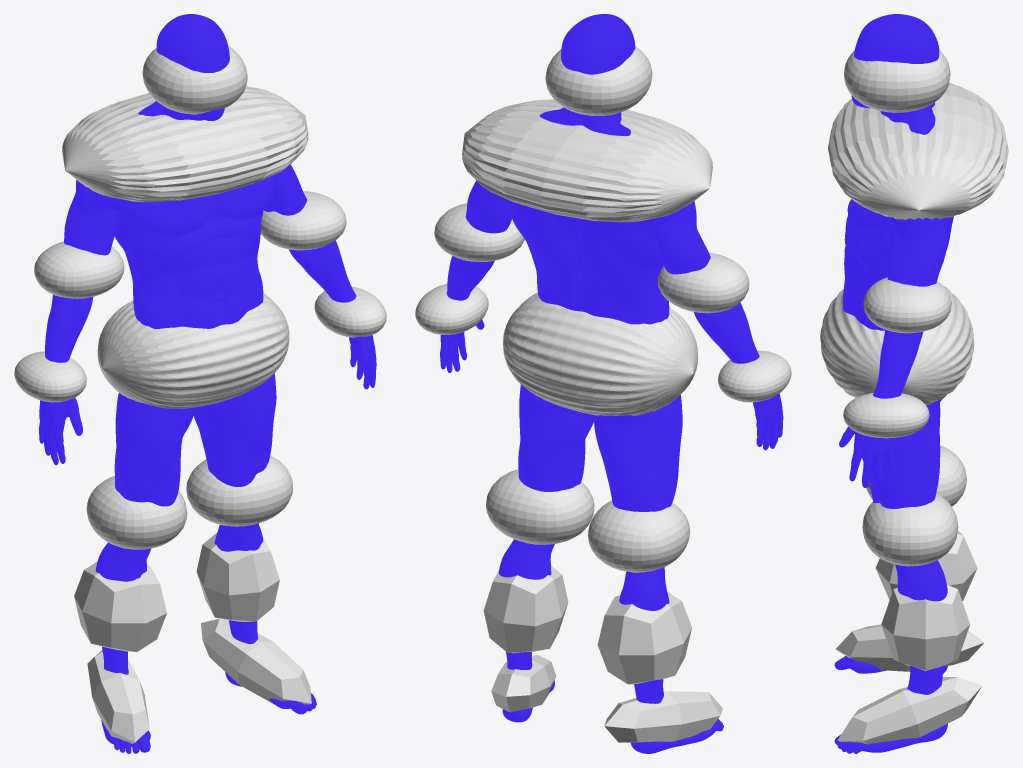
File: body-interactive.glb
3 views of the same model, side by side, from view 1: azimuth 30°, elevation 25°; view 2: azimuth 150°, elevation 25°; view 3: azimuth 270°, elevation 25° (orthographic). The views are drawn at different scales.
Visible parts, largest first — view 1: body012_2, Trigger_Shoulder, Trigger_Hip, Trigger_TibialisRight, Trigger_TibialisLeft, Trigger_AnkleLeft, Trigger_KneeLeft, Trigger_KneeRight, Trigger_Neck, Trigger_ElbowRight, Trigger_AnkleRight, Trigger_ElbowLeft (+2 smaller); view 2: body012_2, Trigger_Shoulder, Trigger_Hip, Trigger_TibialisRight, Trigger_KneeLeft, Trigger_KneeRight, Trigger_TibialisLeft, Trigger_Neck, Trigger_AnkleRight, Trigger_ElbowRight, Trigger_ElbowLeft, Trigger_WristRight (+2 smaller); view 3: body012_2, Trigger_Shoulder, Trigger_Hip, Trigger_TibialisLeft, Trigger_AnkleLeft, Trigger_KneeLeft, Trigger_Neck, Trigger_ElbowLeft, Trigger_WristLeft, Trigger_AnkleRight, Trigger_TibialisRight, Trigger_KneeRight.
Boxes of the visible parts, left/top/right/bottom form: body012_2: left=39, top=14, right=376, bottom=753; Trigger_Shoulder: left=62, top=86, right=308, bottom=202; Trigger_Hip: left=97, top=293, right=289, bottom=408; Trigger_TibialisRight: left=74, top=561, right=166, bottom=651; Trigger_TibialisLeft: left=196, top=532, right=279, bottom=621; Trigger_AnkleLeft: left=201, top=618, right=311, bottom=704; Trigger_KneeLeft: left=186, top=455, right=293, bottom=526; Trigger_KneeRight: left=86, top=476, right=187, bottom=549; Trigger_Neck: left=142, top=46, right=247, bottom=114; Trigger_ElbowRight: left=34, top=241, right=124, bottom=298; Trigger_AnkleRight: left=87, top=650, right=149, bottom=743; Trigger_ElbowLeft: left=260, top=191, right=346, bottom=250; body012_2: left=440, top=14, right=783, bottom=753; Trigger_Shoulder: left=462, top=99, right=712, bottom=222; Trigger_Hip: left=503, top=292, right=698, bottom=416; Trigger_TibialisRight: left=597, top=592, right=691, bottom=684; Trigger_KneeLeft: left=486, top=469, right=594, bottom=544; Trigger_KneeRight: left=587, top=500, right=690, bottom=572; Trigger_TibialisLeft: left=483, top=565, right=568, bottom=653; Trigger_Neck: left=545, top=46, right=652, bottom=115; Trigger_AnkleRight: left=604, top=691, right=722, bottom=742; Trigger_ElbowRight: left=657, top=252, right=749, bottom=313; Trigger_ElbowLeft: left=434, top=203, right=524, bottom=261; Trigger_WristRight: left=718, top=350, right=791, bottom=402; body012_2: left=834, top=14, right=953, bottom=753; Trigger_Shoulder: left=828, top=83, right=1008, bottom=219; Trigger_Hip: left=820, top=286, right=974, bottom=404; Trigger_TibialisLeft: left=881, top=585, right=970, bottom=670; Trigger_AnkleLeft: left=837, top=677, right=982, bottom=744; Trigger_KneeLeft: left=862, top=493, right=958, bottom=566; Trigger_Neck: left=844, top=50, right=950, bottom=112; Trigger_ElbowLeft: left=863, top=277, right=951, bottom=333; Trigger_WristLeft: left=843, top=392, right=929, bottom=438; Trigger_AnkleRight: left=835, top=624, right=984, bottom=671; Trigger_TibialisRight: left=875, top=530, right=977, bottom=600; Trigger_KneeRight: left=866, top=445, right=966, bottom=506.
Size of the model in its own units: 0.6456 by 1.21 by 0.2979.
